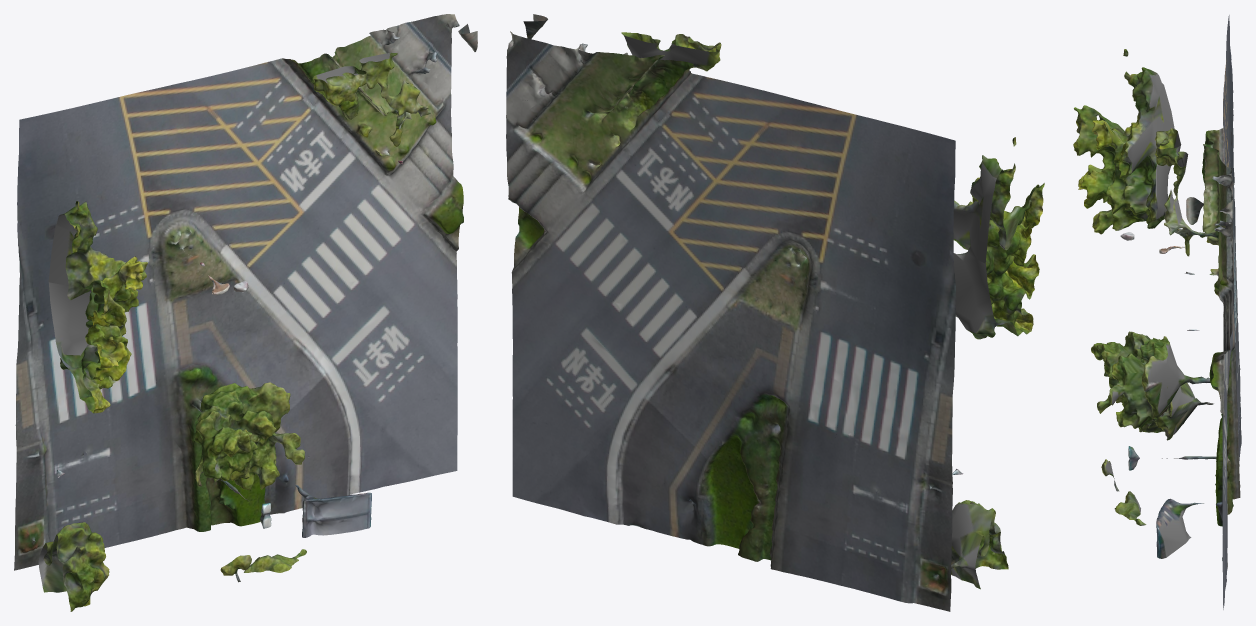
Rendered from Tile_+016_+023.fbx.
The picture shows the model from 3 angles, left to right: view 1: azimuth 30°, elevation 25°; view 2: azimuth 150°, elevation 25°; view 3: azimuth 270°, elevation 25°; orthographic projection. The views are drawn at different scales.
Parts seen in each view (by area): view 1: DefaultName; view 2: DefaultName; view 3: DefaultName.
Part boxes in pixels (<box>): DefaultName: <box>14,14,477,611</box>; DefaultName: <box>506,14,1044,611</box>; DefaultName: <box>1073,15,1241,609</box>.
Size of the model in its own units: 22.54 by 22.54 by 8.44.
